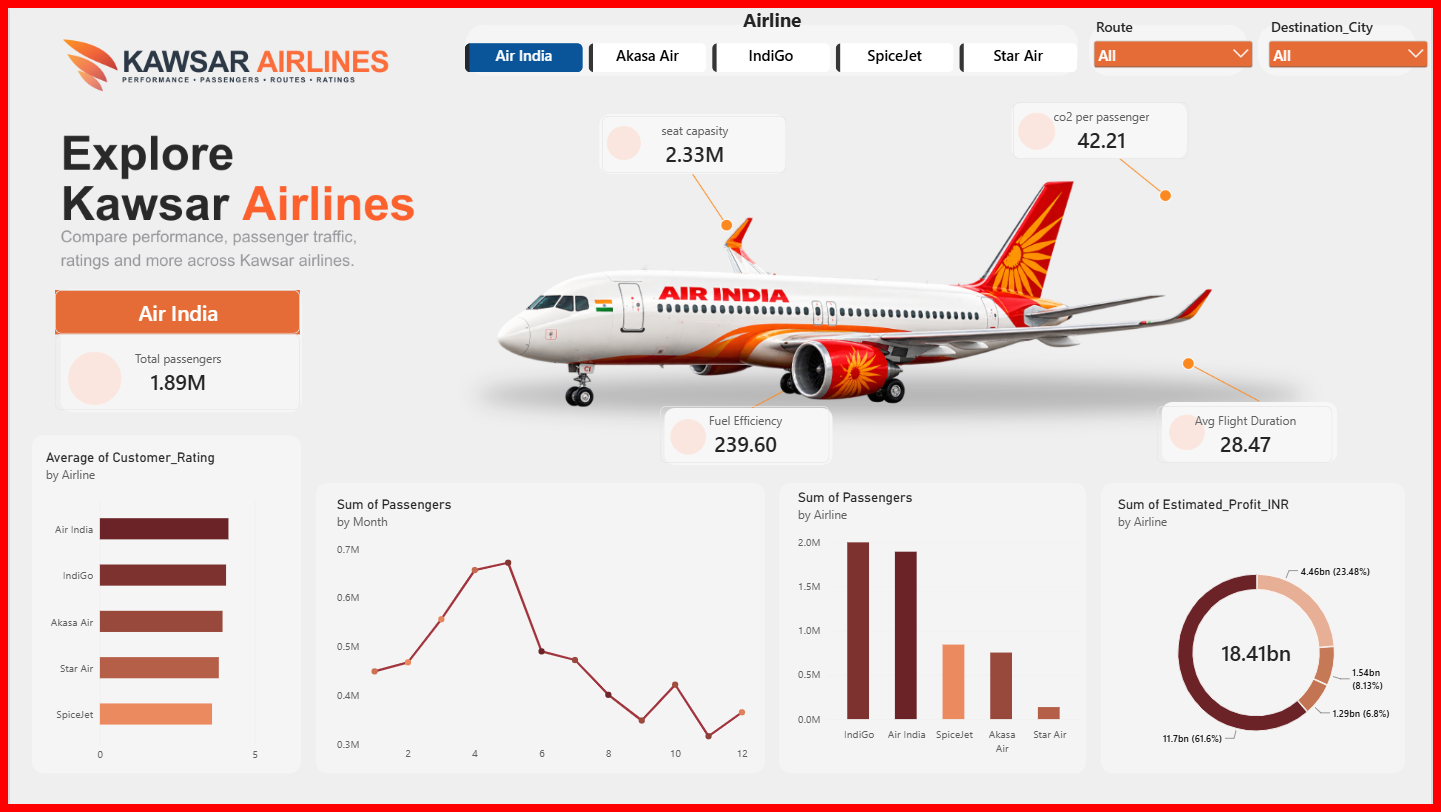

The dashboard page shown, as its layout file describes it:
{"tool":"powerbi","page":{"name":"Page 1","canvas":[1920,1080],"ordinal":0},"visuals":[{"type":"barChart","fields":{"Category":["Aircraft_Images.Airline"],"Y":["Avg(Flight_Data.Customer_Rating)"]},"box":[32.1,583.6,360.4,456.7],"z":0},{"type":"clusteredColumnChart","fields":{"Category":["Aircraft_Images.Airline"],"Y":["Sum(Flight_Data.Passengers)"]},"box":[1049,637.6,414.3,392.5],"z":1},{"type":"lineChart","fields":{"Category":["Flight_Data.Date Hierarchy.Year","Flight_Data.Date Hierarchy.Month","Flight_Data.Date Hierarchy.Quarter"],"Y":["Sum(Flight_Data.Passengers)"]},"box":[426,647.8,589.4,392.5],"z":2},{"type":"donutChart","fields":{"Category":["Flight_Data.Airline"],"Y":["Sum(Flight_Data.Estimated_Profit_INR)"]},"box":[1480.9,647.8,405.6,392.5],"z":3},{"type":"advancedSlicerVisual","fields":{"Values":["Aircraft_Images.Airline"]},"box":[614.2,0,830.2,89],"z":4},{"type":"image","box":[614.2,224.7,1043.2,331.2],"z":5},{"type":"cardVisual","fields":{"Data":["Min(Aircraft_Images.Airline)"]},"box":[61.3,382.2,331.2,59.8],"z":6},{"type":"cardVisual","fields":{"Data":["_Measure_table.Total passengers"]},"box":[61.3,442.1,331.2,103.6],"z":7},{"type":"cardVisual","fields":{"Data":["_Measure_table.seat capasity"]},"box":[799.5,147.4,249.5,77.3],"z":8},{"type":"cardVisual","fields":{"Data":["_Measure_table.co2 per passenger"]},"box":[1355.4,128.4,237.8,77.3],"z":9},{"type":"cardVisual","fields":{"Data":["_Measure_table.Fuel Efficiency"]},"box":[878.3,539.8,229.1,77.3],"z":10},{"type":"cardVisual","fields":{"Data":["_Measure_table.Avg Flight Duration"]},"box":[1549.4,539.8,237.8,77.3],"z":11},{"type":"slicer","fields":{"Values":["Flight_Data.Route"]},"box":[1459,13.1,224.7,75.9],"z":12},{"type":"slicer","fields":{"Values":["Flight_Data.Destination_City"]},"box":[1695.3,13.1,224.7,75.9],"z":13}]}

Visuals, with their boxes in screenshot pixels (x1, y1, x2, y2), scaled from the page's 1920x1080 canvas onto the 1441x812 screenshot:
barChart - Aircraft_Images.Airline x Avg(Flight_Data.Customer_Rating): <box>24,439,295,782</box>
clusteredColumnChart - Aircraft_Images.Airline x Sum(Flight_Data.Passengers): <box>787,479,1098,774</box>
lineChart - Flight_Data.Date Hierarchy.Year x Flight_Data.Date Hierarchy.Month: <box>320,487,762,782</box>
donutChart - Flight_Data.Airline x Sum(Flight_Data.Estimated_Profit_INR): <box>1111,487,1416,782</box>
advancedSlicerVisual - Aircraft_Images.Airline: <box>461,0,1084,67</box>
image: <box>461,169,1244,418</box>
cardVisual - Min(Aircraft_Images.Airline): <box>46,287,295,332</box>
cardVisual - _Measure_table.Total passengers: <box>46,332,295,410</box>
cardVisual - _Measure_table.seat capasity: <box>600,111,787,169</box>
cardVisual - _Measure_table.co2 per passenger: <box>1017,97,1196,155</box>
cardVisual - _Measure_table.Fuel Efficiency: <box>659,406,831,464</box>
cardVisual - _Measure_table.Avg Flight Duration: <box>1163,406,1341,464</box>
slicer - Flight_Data.Route: <box>1095,10,1264,67</box>
slicer - Flight_Data.Destination_City: <box>1272,10,1440,67</box>
